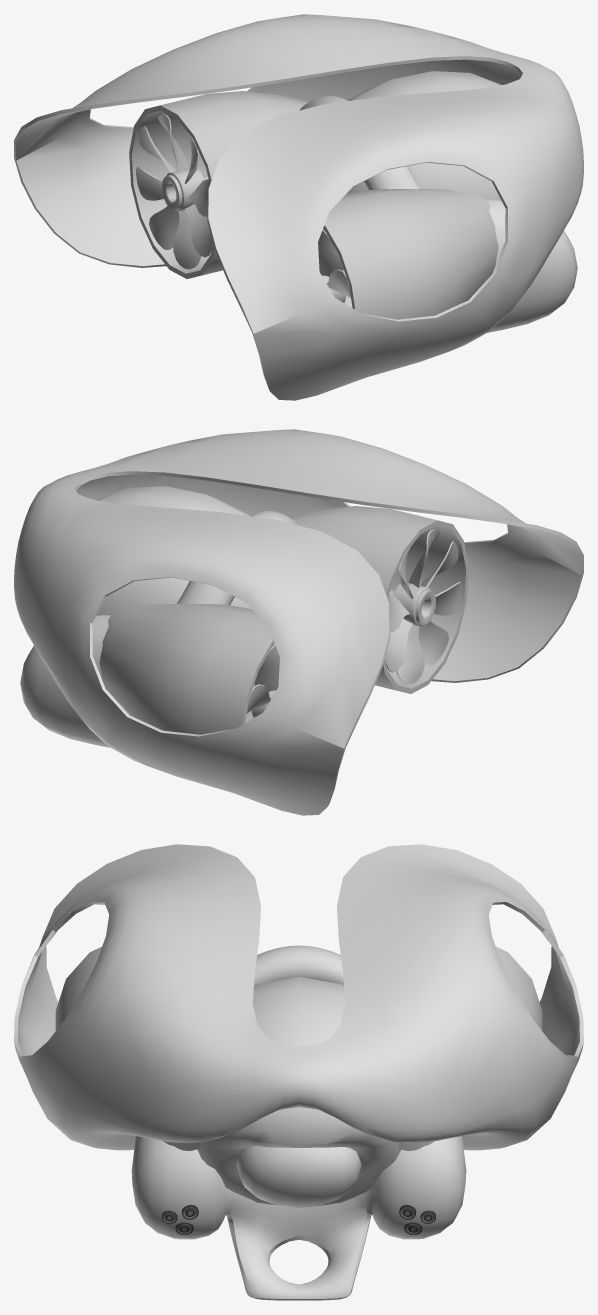
File: smallsubmarine.fbx
3 views of the same model, one above another, from view 1: azimuth 30°, elevation 25°; view 2: azimuth 150°, elevation 25°; view 3: azimuth 270°, elevation 25° (orthographic). The views are drawn at different scales.
Visible parts, largest first — view 1: Cube.002, Cylinder.002, Cylinder.001, Cube.001, Cube; view 2: Cube.002, Cylinder.002, Cylinder.001, Cube.001, Cube; view 3: Cube.002, Cube.001, Cube, Cylinder.002, Cylinder.004.
Part boxes in pixels (x1,y1,x2,y2): Cube.002: [14, 14, 583, 400]; Cylinder.002: [129, 91, 498, 319]; Cylinder.001: [136, 114, 350, 302]; Cube.001: [299, 96, 577, 332]; Cube: [346, 71, 501, 200]; Cube.002: [14, 429, 583, 815]; Cylinder.002: [99, 506, 468, 734]; Cylinder.001: [247, 529, 461, 717]; Cube.001: [20, 511, 298, 747]; Cube: [96, 486, 251, 615]; Cube.002: [14, 844, 583, 1150]; Cube.001: [131, 945, 466, 1300]; Cube: [197, 977, 401, 1207]; Cylinder.002: [55, 946, 542, 1030]; Cylinder.004: [162, 1204, 435, 1234].
Size of the model in its own units: 269 by 157 by 286.
